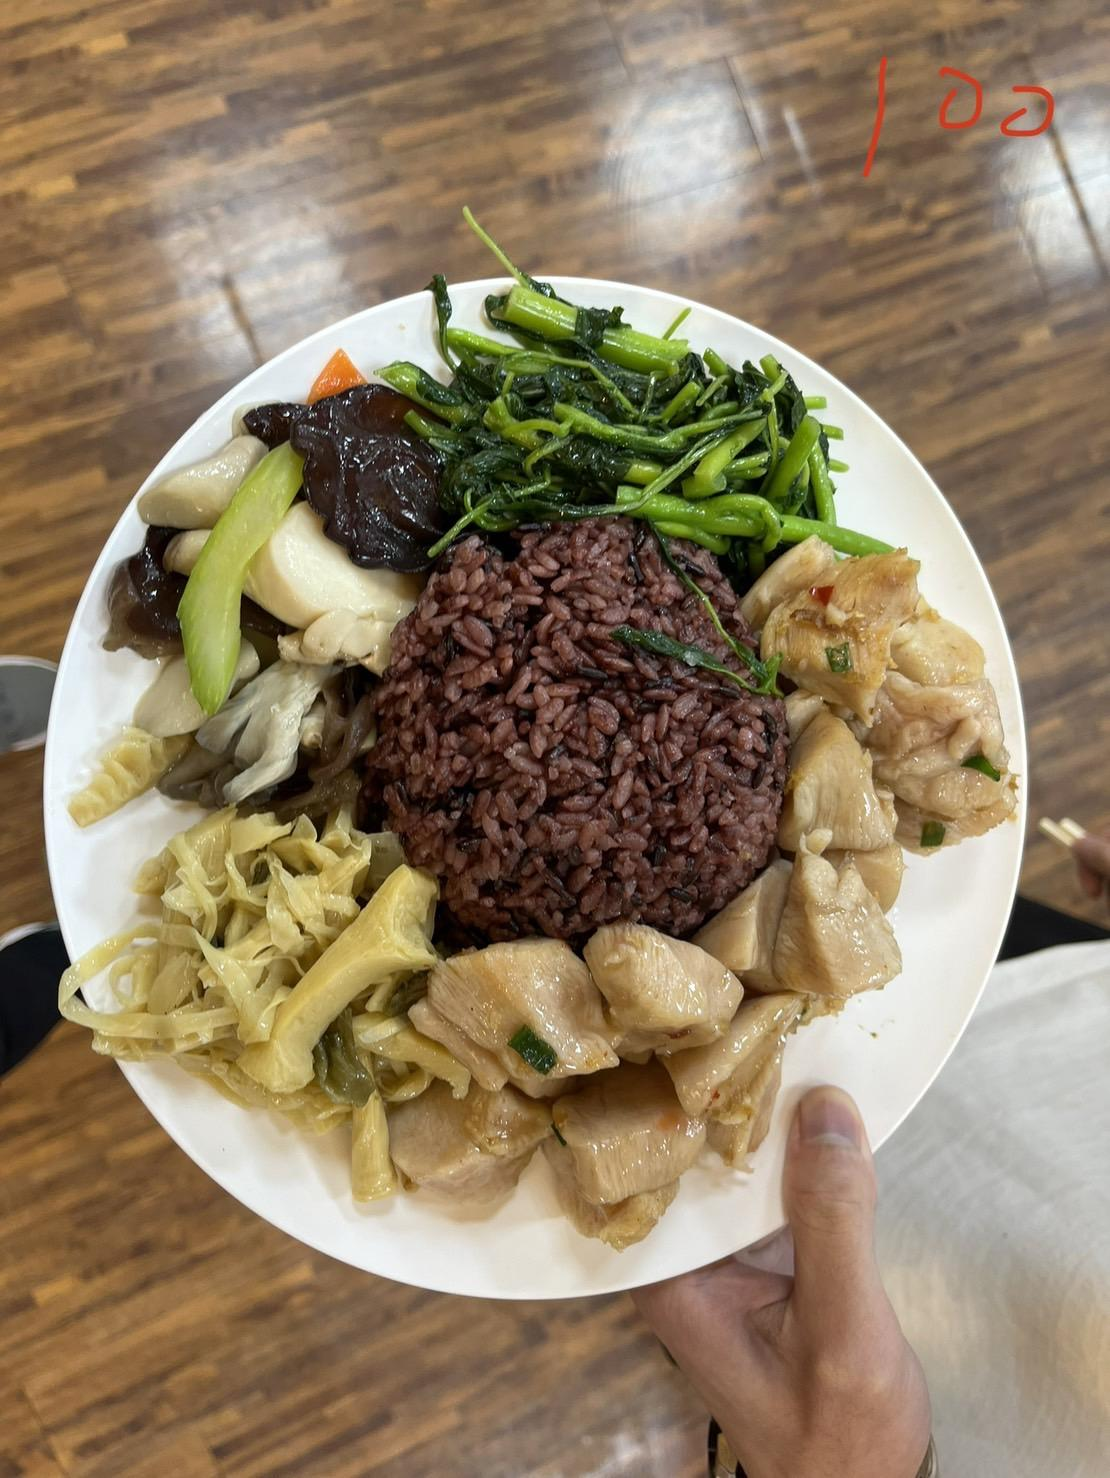big fried chicken leg: (51, 261, 1044, 1298)
braised fish: (384, 527, 774, 941)
braised fish fillet: (81, 381, 431, 815), (414, 277, 852, 551), (87, 807, 433, 1132)
braised pork: (393, 541, 1004, 1228)
